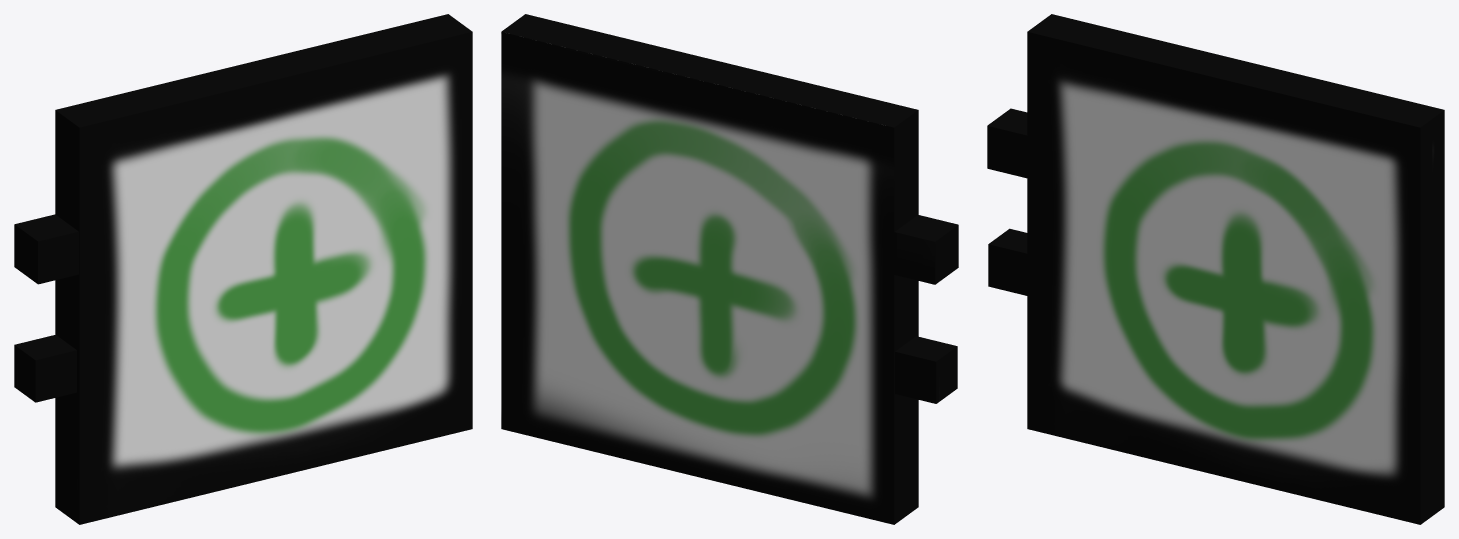
File: signsPhar.glb
3 renders of one model, left to right at view 1: azimuth 30°, elevation 25°; view 2: azimuth 150°, elevation 25°; view 3: azimuth 330°, elevation 25°, orthographic.
Visible parts, largest first — view 1: signs1; view 2: signs1; view 3: signs1.
Boxes of the visible parts, x1,y1,x2,y2 form: signs1: (14, 14, 472, 524); signs1: (501, 14, 958, 524); signs1: (987, 14, 1444, 524).
Size of the model in its own units: 8.02 by 7.01 by 0.7777.
1 material, 1 textured.
